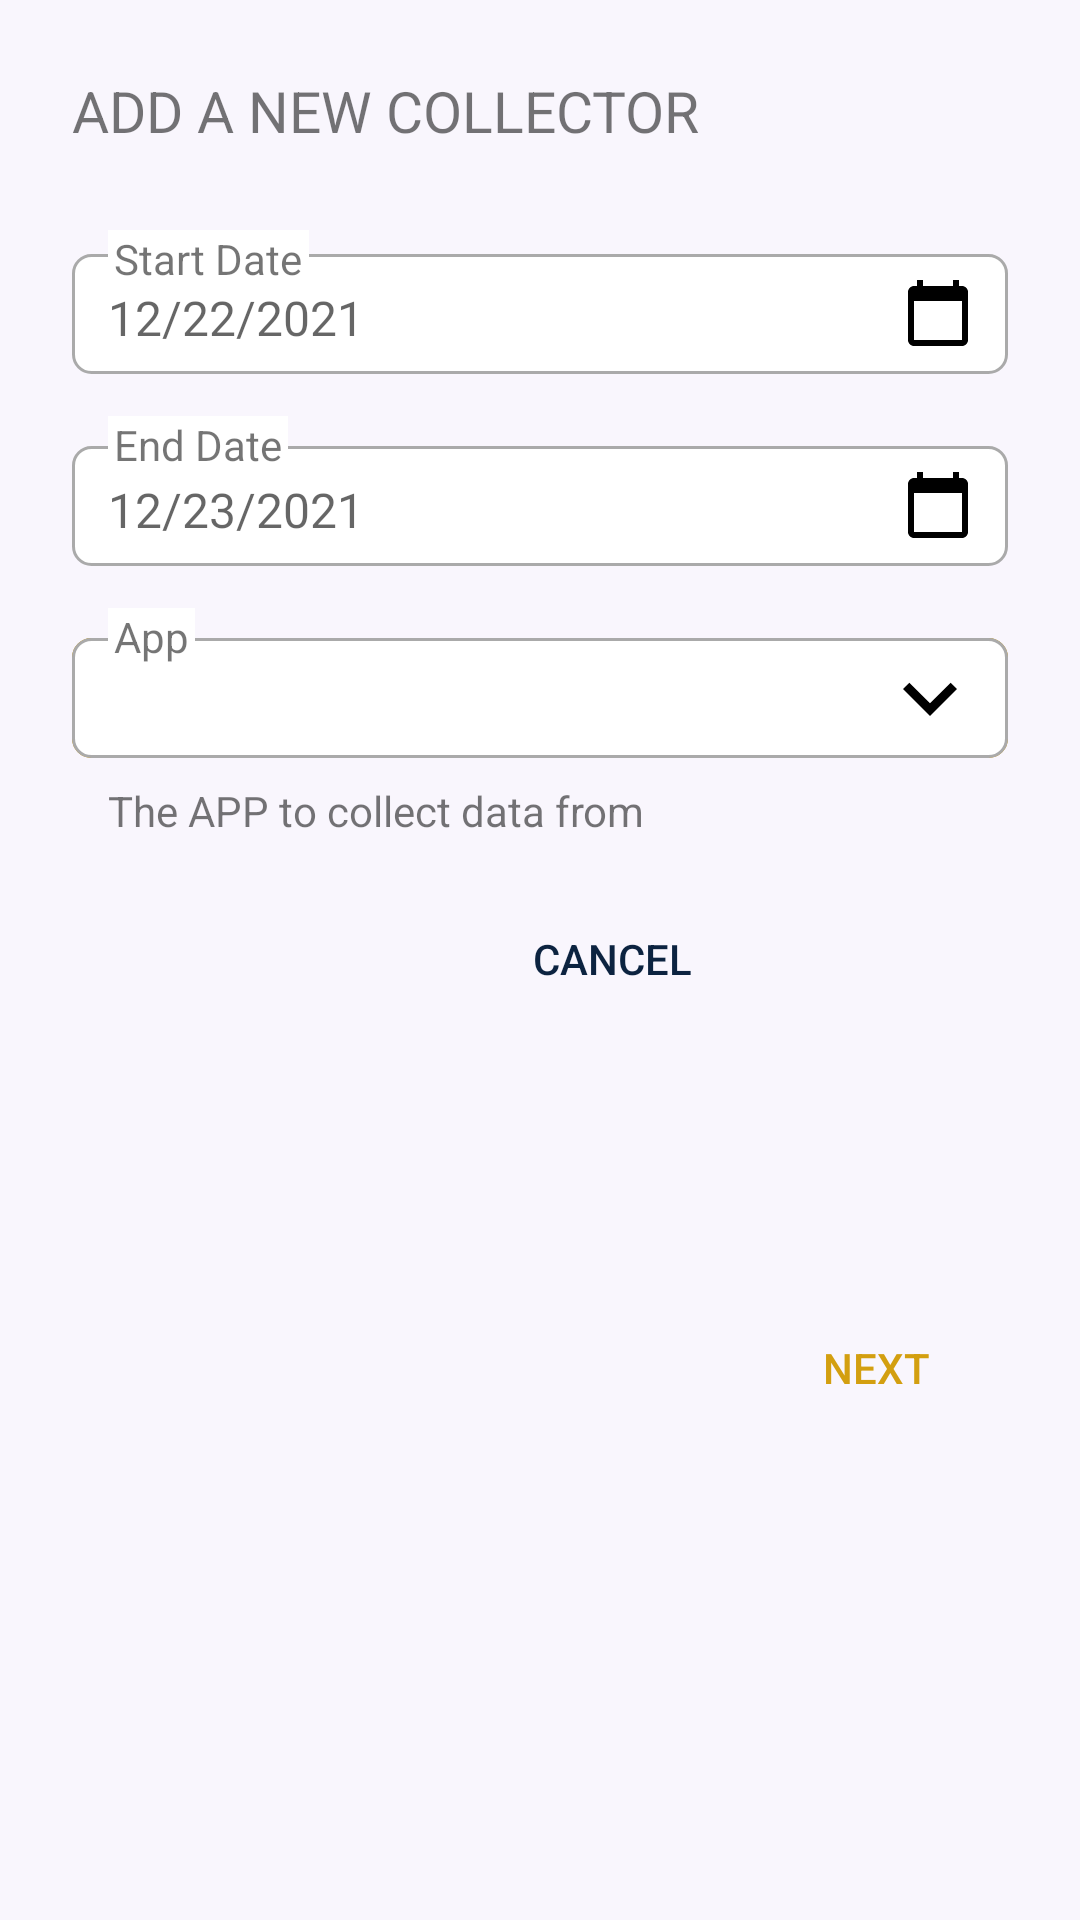

Screen size 1080 × 1920. Icon name, then its center in pixels as (x,y):
calendar today: (938,313), (938,505)
